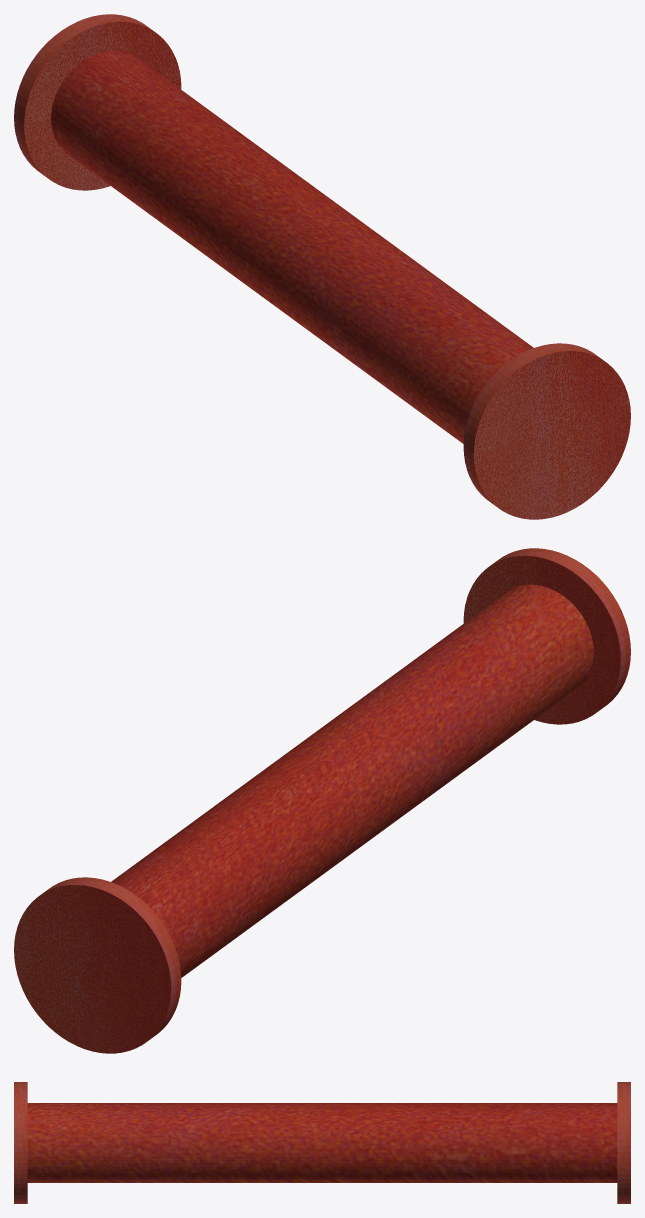
The model's file is Tuyau.fbx.
3 views of the same model, one above another, from view 1: azimuth 30°, elevation 25°; view 2: azimuth 150°, elevation 25°; view 3: azimuth 270°, elevation 25° (orthographic). The views are drawn at different scales.
Visible parts, largest first — view 1: Pipes; view 2: Pipes; view 3: Pipes.
Part boxes in pixels (x1,y1,x2,y2): Pipes: (14, 14, 630, 519); Pipes: (14, 548, 630, 1053); Pipes: (14, 1082, 630, 1203).
Bounding box in the file's own units: 60.82 × 60.82 × 308.
1 material, 1 textured.
